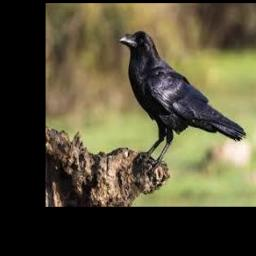Crow: (117, 30, 246, 173)
